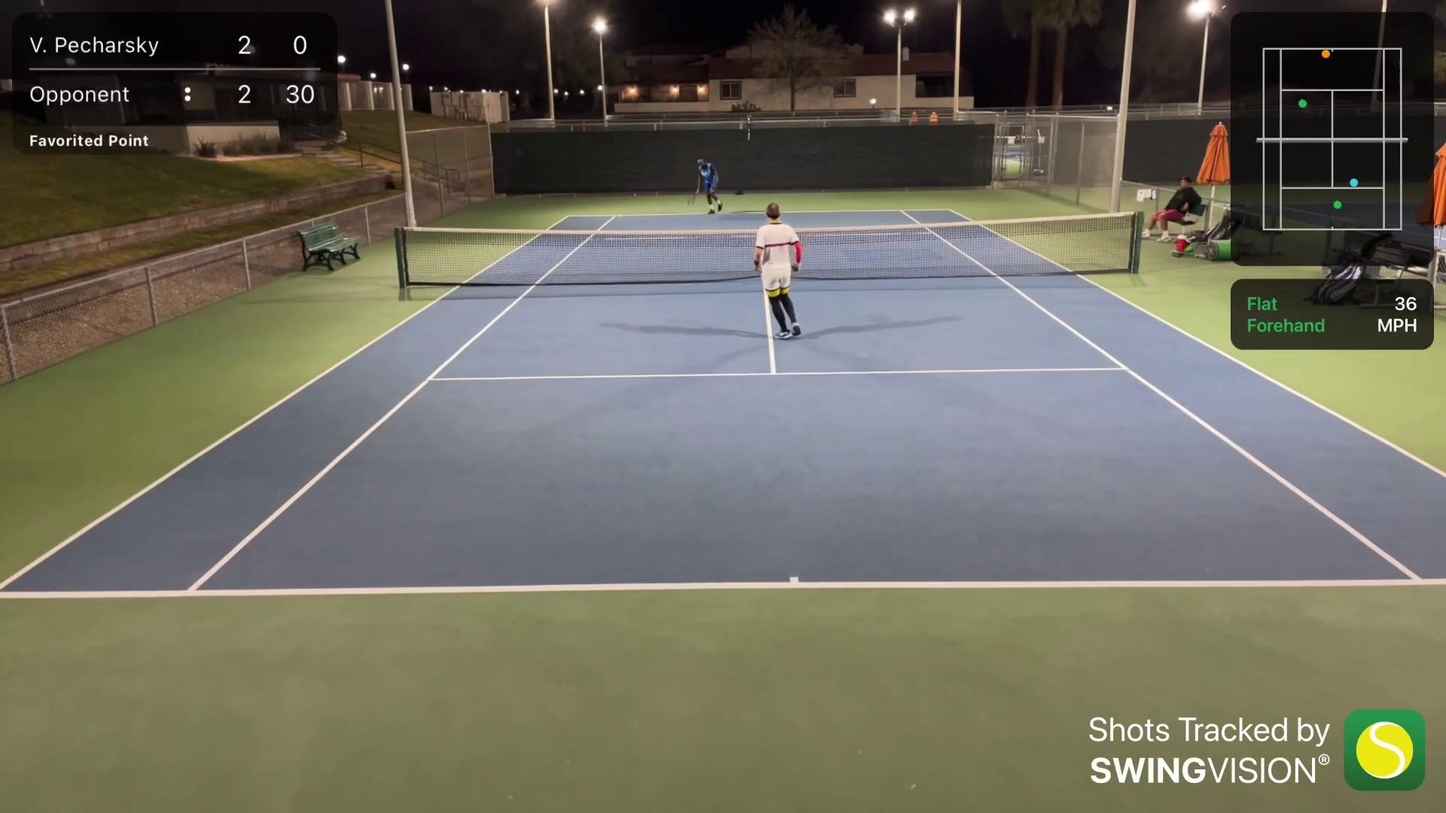ball: (616, 212, 625, 219)
